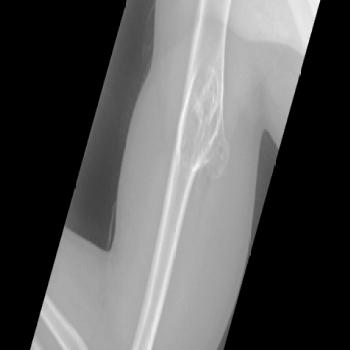Fracture: (163, 67, 228, 164)
